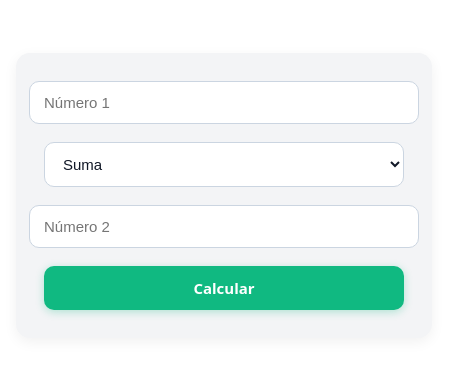
Test: Calculator component › Error al dividir por cero.
In the number field with placeholder "Número 1": (224, 102) x1=29 y1=80 x2=419 y2=124, type "10"
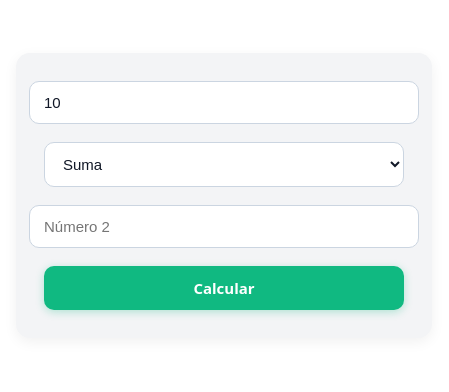
In the number field with placeholder "Número 2": (224, 226) x1=29 y1=204 x2=419 y2=248, type "0"
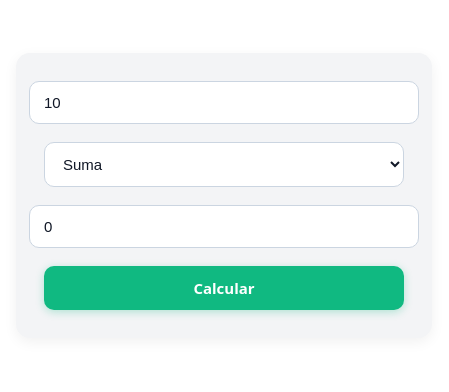
Select "División" in the dropdown: (224, 164) x1=44 y1=142 x2=404 y2=186
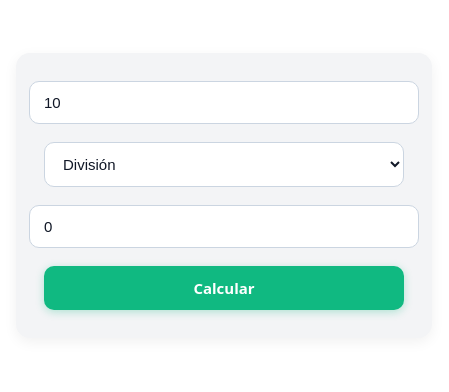
Click the button "Calcular": (224, 288) x1=44 y1=266 x2=404 y2=310
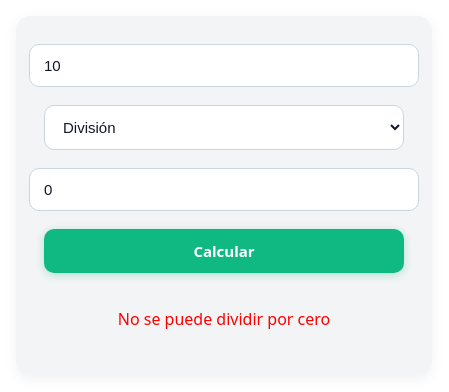
Now the text "No se puede dividir por cero" is shown, box x1=118 y1=306 x2=330 y2=330
